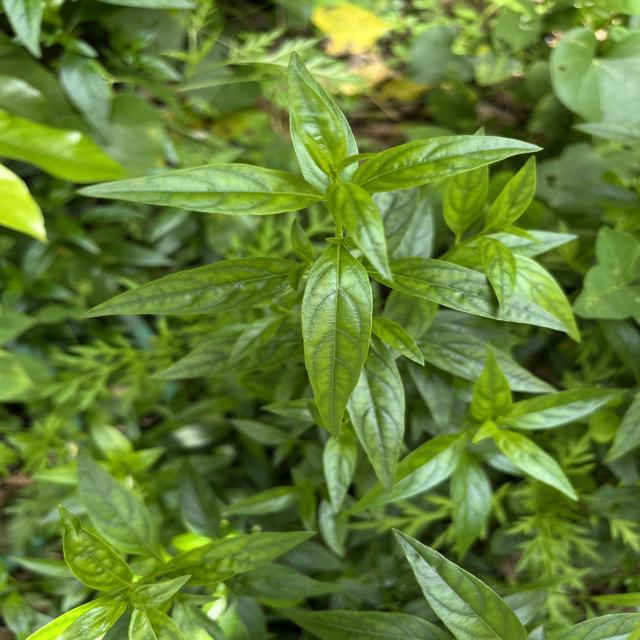Andrographis paniculata: (371, 254, 572, 335), (298, 244, 376, 443), (391, 527, 528, 640), (78, 255, 296, 322), (74, 162, 320, 216), (360, 132, 548, 197), (334, 432, 465, 522), (284, 48, 362, 190), (345, 331, 406, 494), (158, 528, 320, 588), (507, 384, 628, 431), (486, 152, 541, 230), (468, 342, 516, 424)
